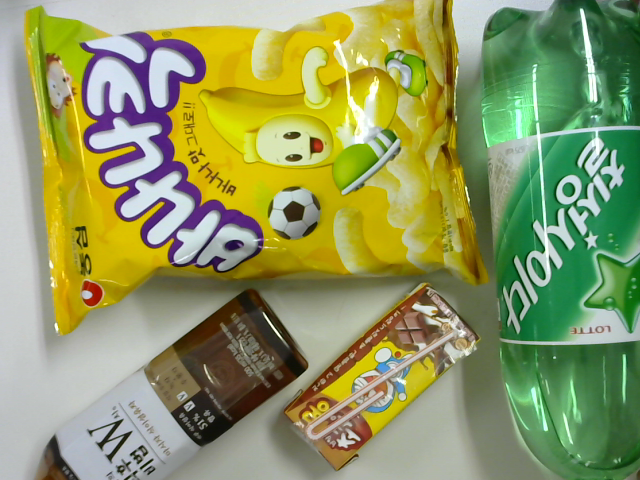Banana_Kick: (21, 12, 487, 316)
Chilseong_Cider_1.5L: (487, 2, 636, 479)
Choco_E_Mong: (289, 286, 477, 470)
Post-meal_recipe_W_tea_500ml: (33, 290, 309, 480)
